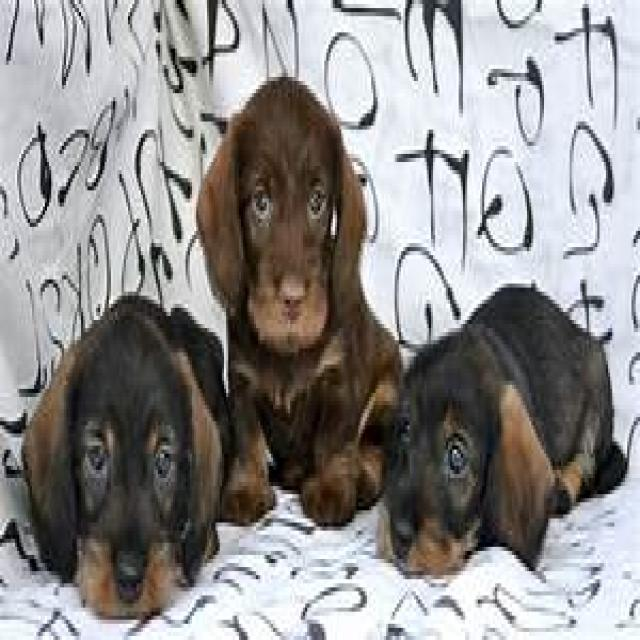animal: (195, 77, 406, 521), (377, 283, 627, 577), (21, 290, 228, 616)
